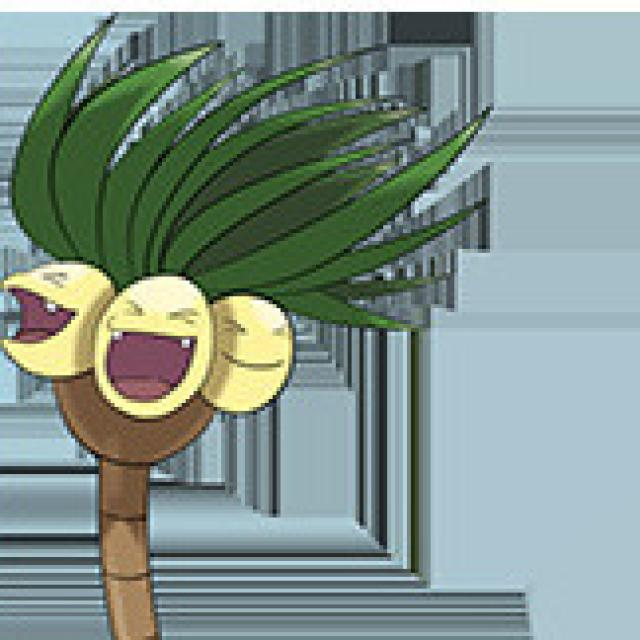Exeggutor: (0, 30, 401, 623)
